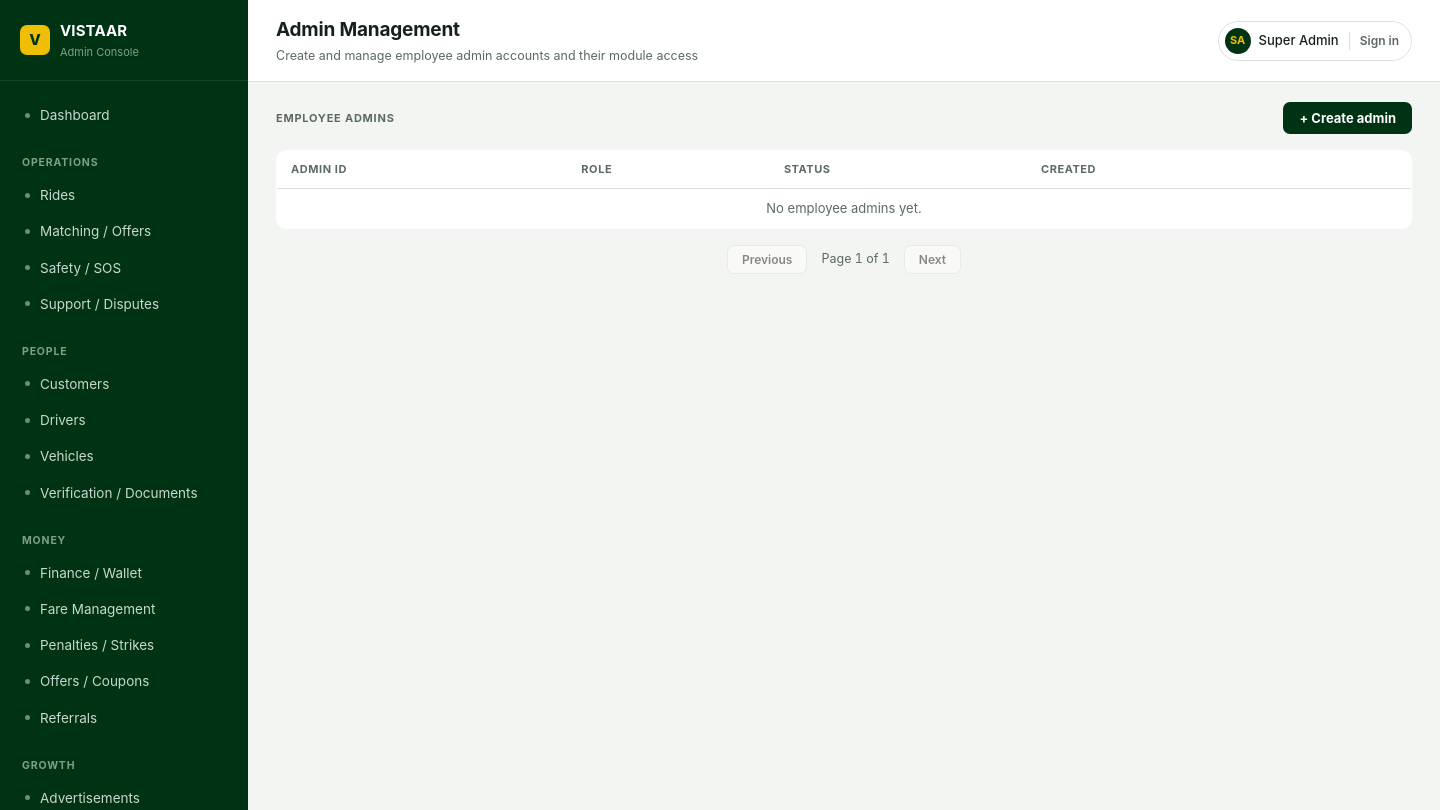
Test: AdminManagementPage › creates an employee admin and refreshes the list
The width and height of the screenshot is (1440, 810).
Expected: the text "No employee admins yet." is shown, [276, 188, 1412, 229]
Click the button "+ Create admin": coordinates (1348, 118) [1283, 102, 1412, 134]
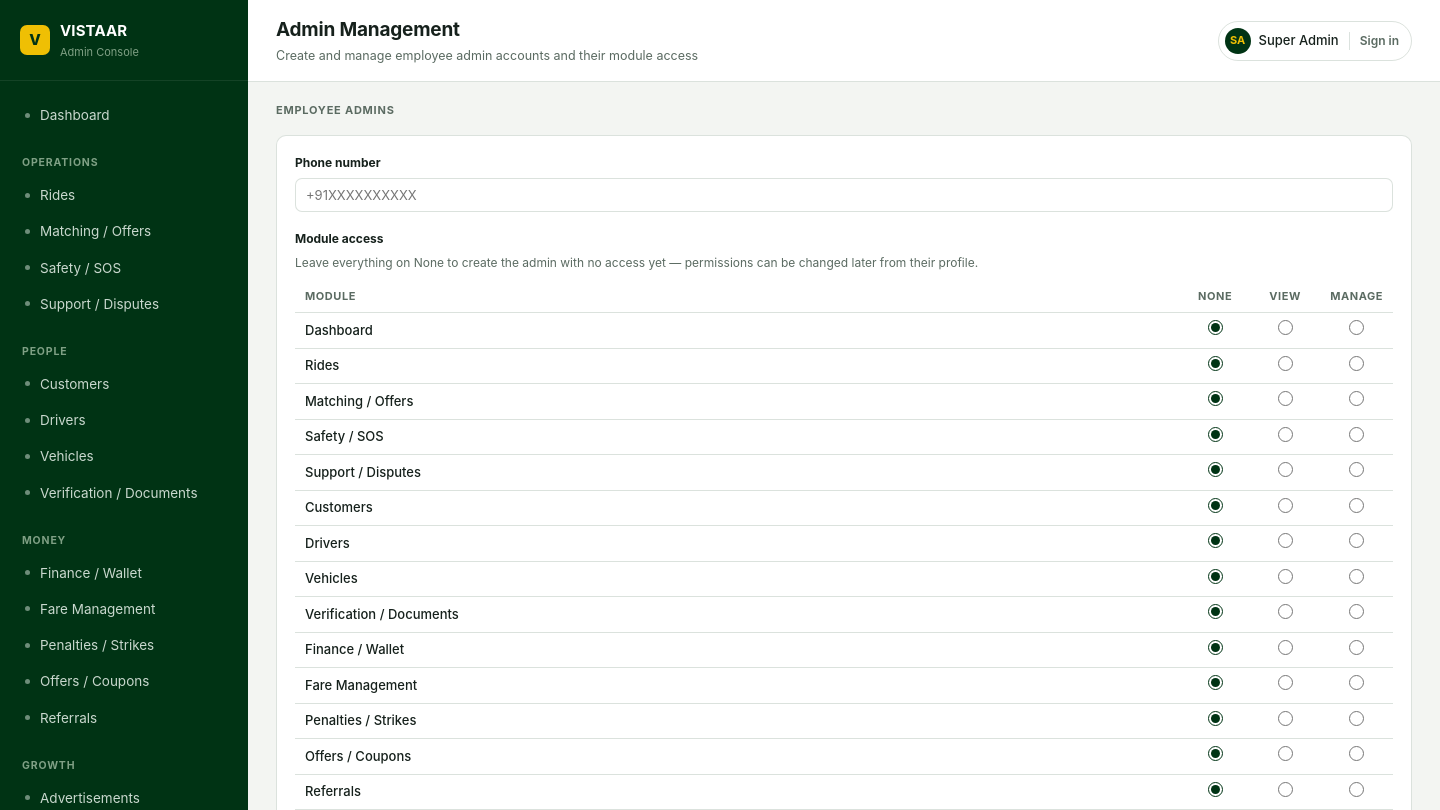
In the field labelled "Phone number": coordinates (844, 195) [295, 178, 1393, 212], type "+919876543210"
(page scrolled)
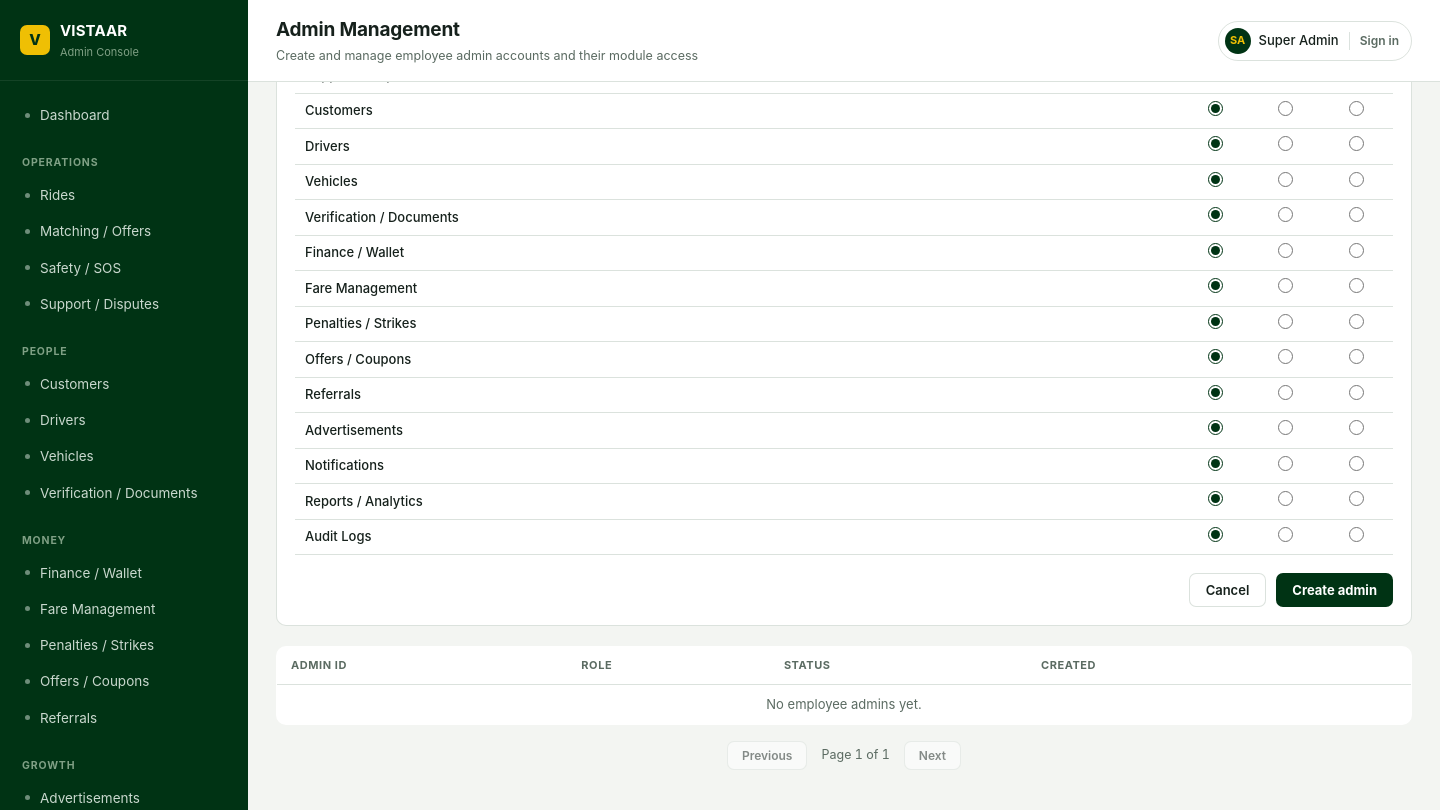
Click the button "Create admin": coordinates (1335, 590) [1276, 573, 1393, 607]
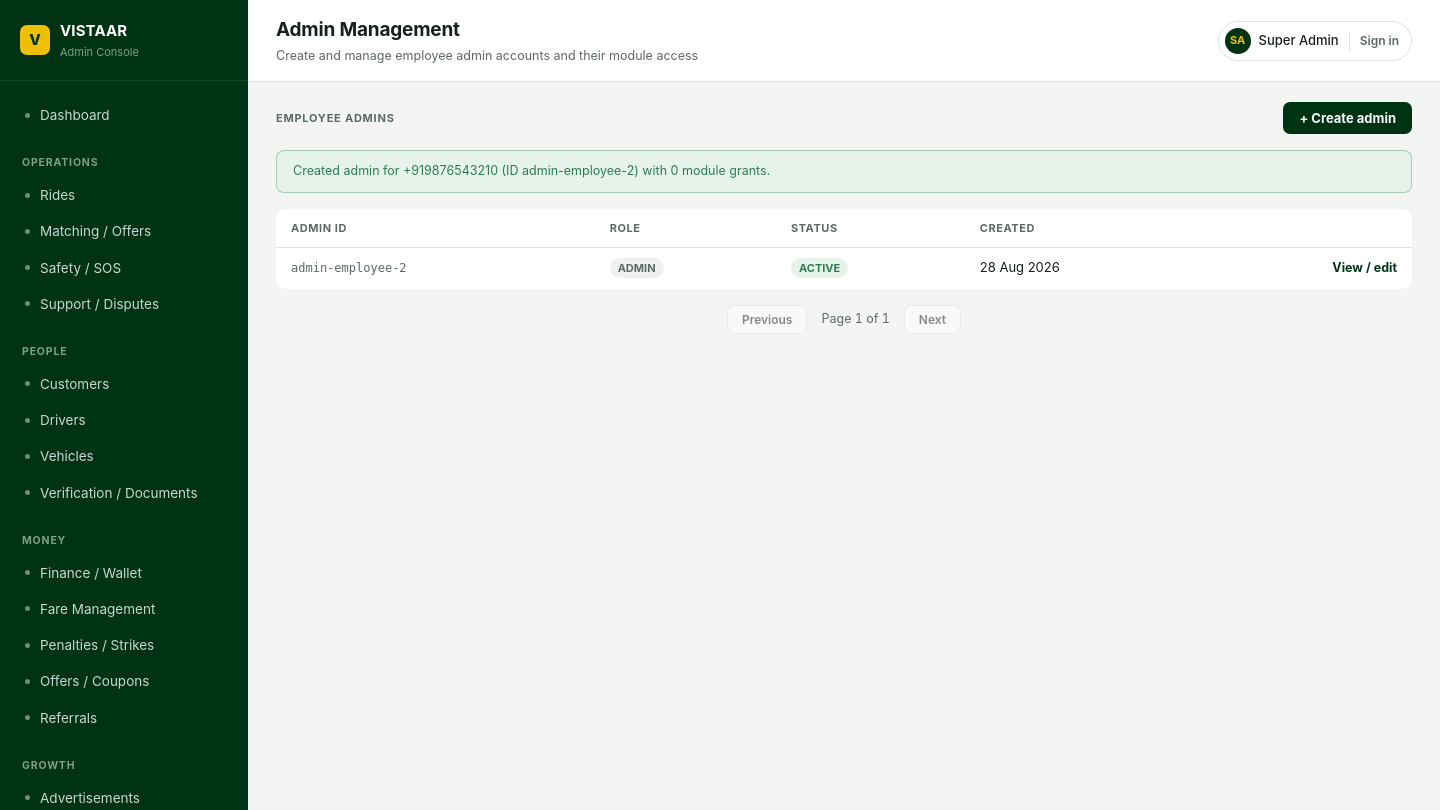
Expected: the text "Created admin for +919876543210" is shown, [293, 163, 770, 178]
Expected: the text "admin-employee-2" is shown, [276, 247, 596, 288]
